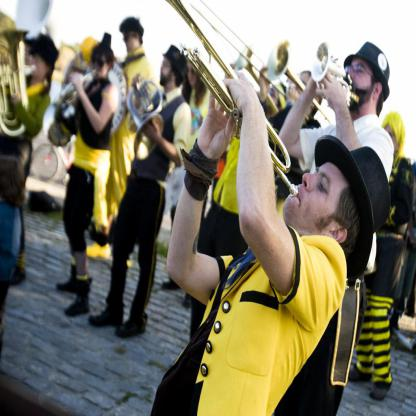face: (283, 157, 352, 219), (342, 50, 375, 105), (294, 77, 315, 110), (160, 52, 174, 86), (31, 50, 47, 79), (186, 58, 200, 89), (92, 52, 107, 79), (385, 124, 399, 152), (124, 29, 137, 53)
